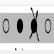correct: (16, 15, 24, 37)
not correct: (28, 6, 40, 44)
